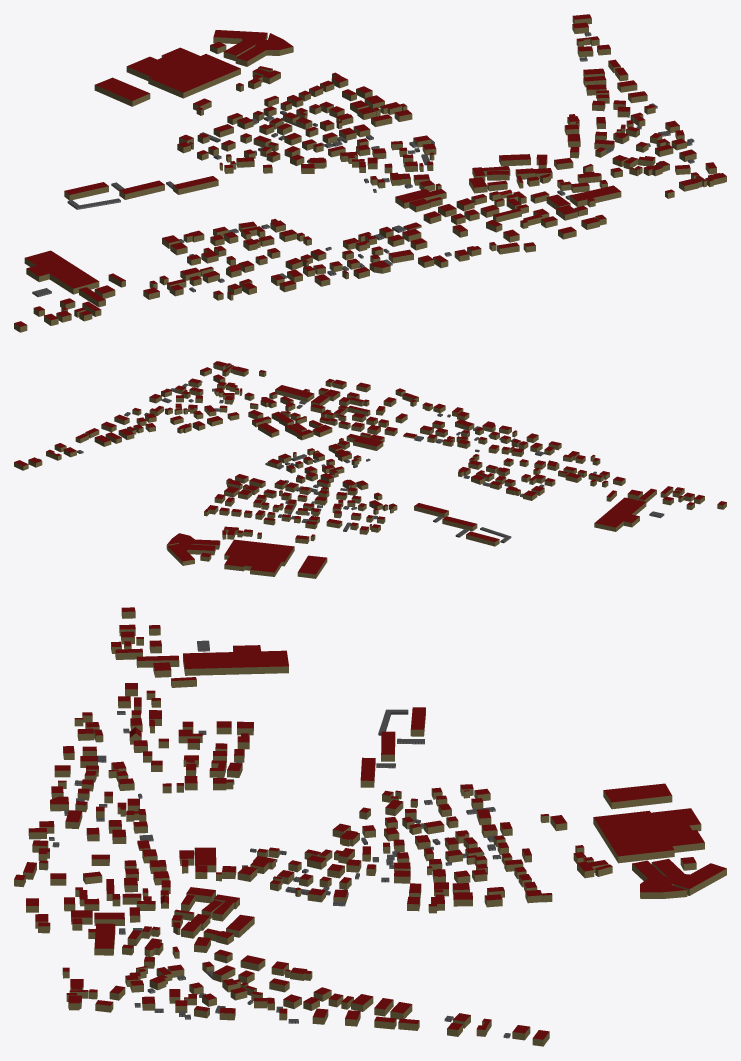
The model's file is Ingolstadt_Tile_9_9.obj.
3 renders of one model, top to bottom at view 1: azimuth 30°, elevation 25°; view 2: azimuth 150°, elevation 25°; view 3: azimuth 270°, elevation 25°, orthographic. The views are drawn at different scales.
Parts seen in each view (by area): view 1: Building174, Building316, Building37, Building147, Building176, Building172, Building270, Building269; view 2: Building174, Building316, Building37, Building176, Building147, Building172; view 3: Building174, Building316, Building37, Building172, Building176, Building147.
Part boxes in pixels (box(x1,y1,x2,y2)): Building174: box(148, 54, 240, 98); Building316: box(24, 250, 99, 294); Building37: box(94, 77, 150, 106); Building147: box(569, 185, 621, 207); Building176: box(126, 56, 173, 80); Building172: box(213, 30, 267, 43); Building270: box(119, 180, 164, 199); Building269: box(173, 176, 218, 194); Building174: box(224, 539, 294, 566); Building316: box(594, 497, 646, 531); Building37: box(297, 555, 327, 578); Building176: box(250, 559, 281, 576); Building147: box(275, 385, 314, 402); Building172: box(167, 543, 194, 565); Building174: box(593, 810, 674, 863); Building316: box(183, 645, 288, 675); Building37: box(603, 783, 672, 809); Building172: box(673, 863, 726, 895); Building176: box(651, 808, 701, 831); Building147: box(88, 923, 115, 955).
Bounding box in the file's own units: 1014 × 12.5 × 707.
